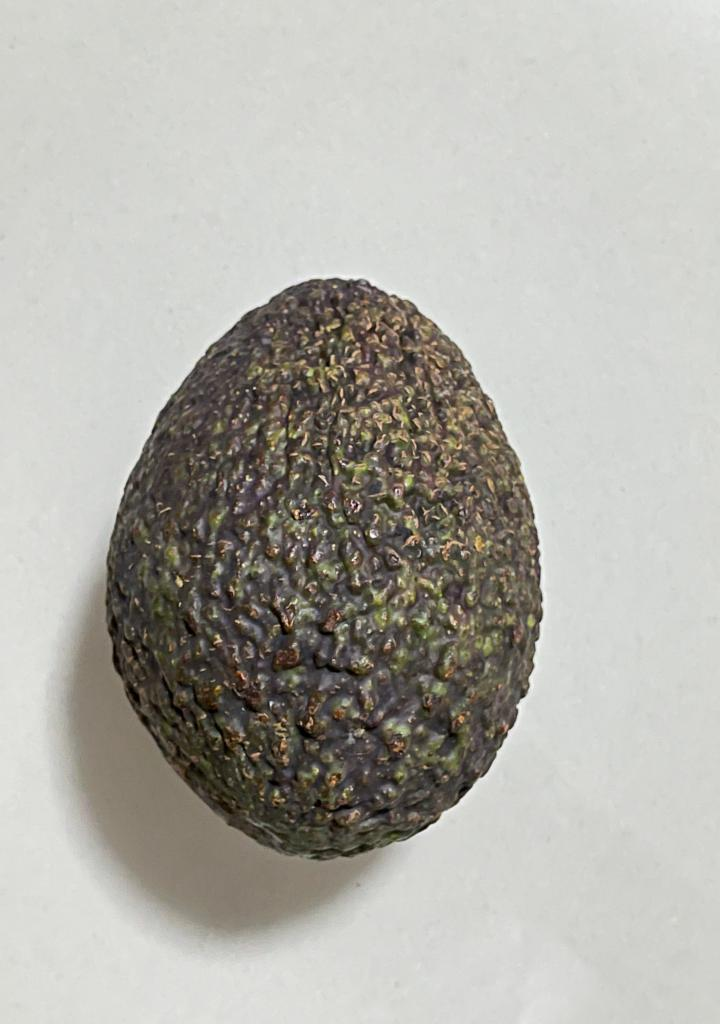Level1: (90, 262, 568, 876)
